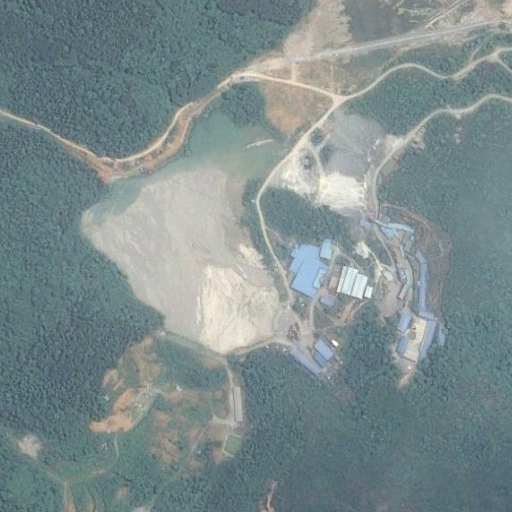tp: (80, 103, 289, 357)
